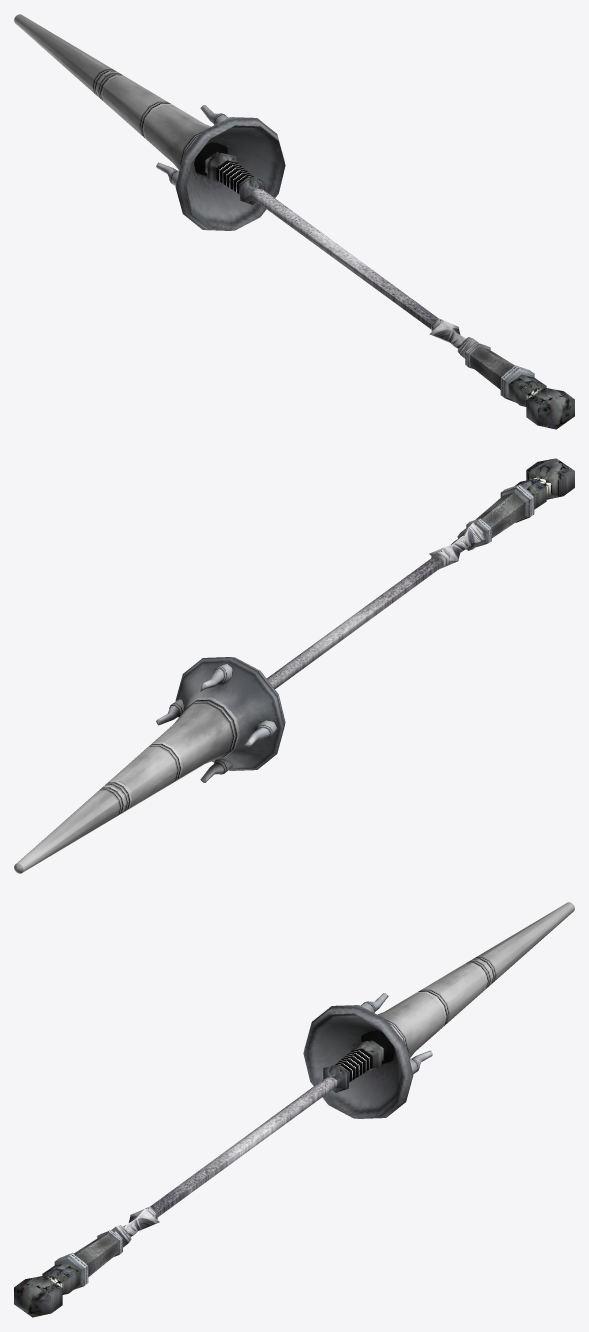
File: spear_knight_spear_knight_spear1.glb
The picture shows the model from 3 angles, top to bottom: view 1: azimuth 30°, elevation 25°; view 2: azimuth 150°, elevation 25°; view 3: azimuth 330°, elevation 25°; orthographic projection.
Bounding box in the file's own units: 0.3313 × 0.3313 × 2.86.
1 material, 1 textured.
